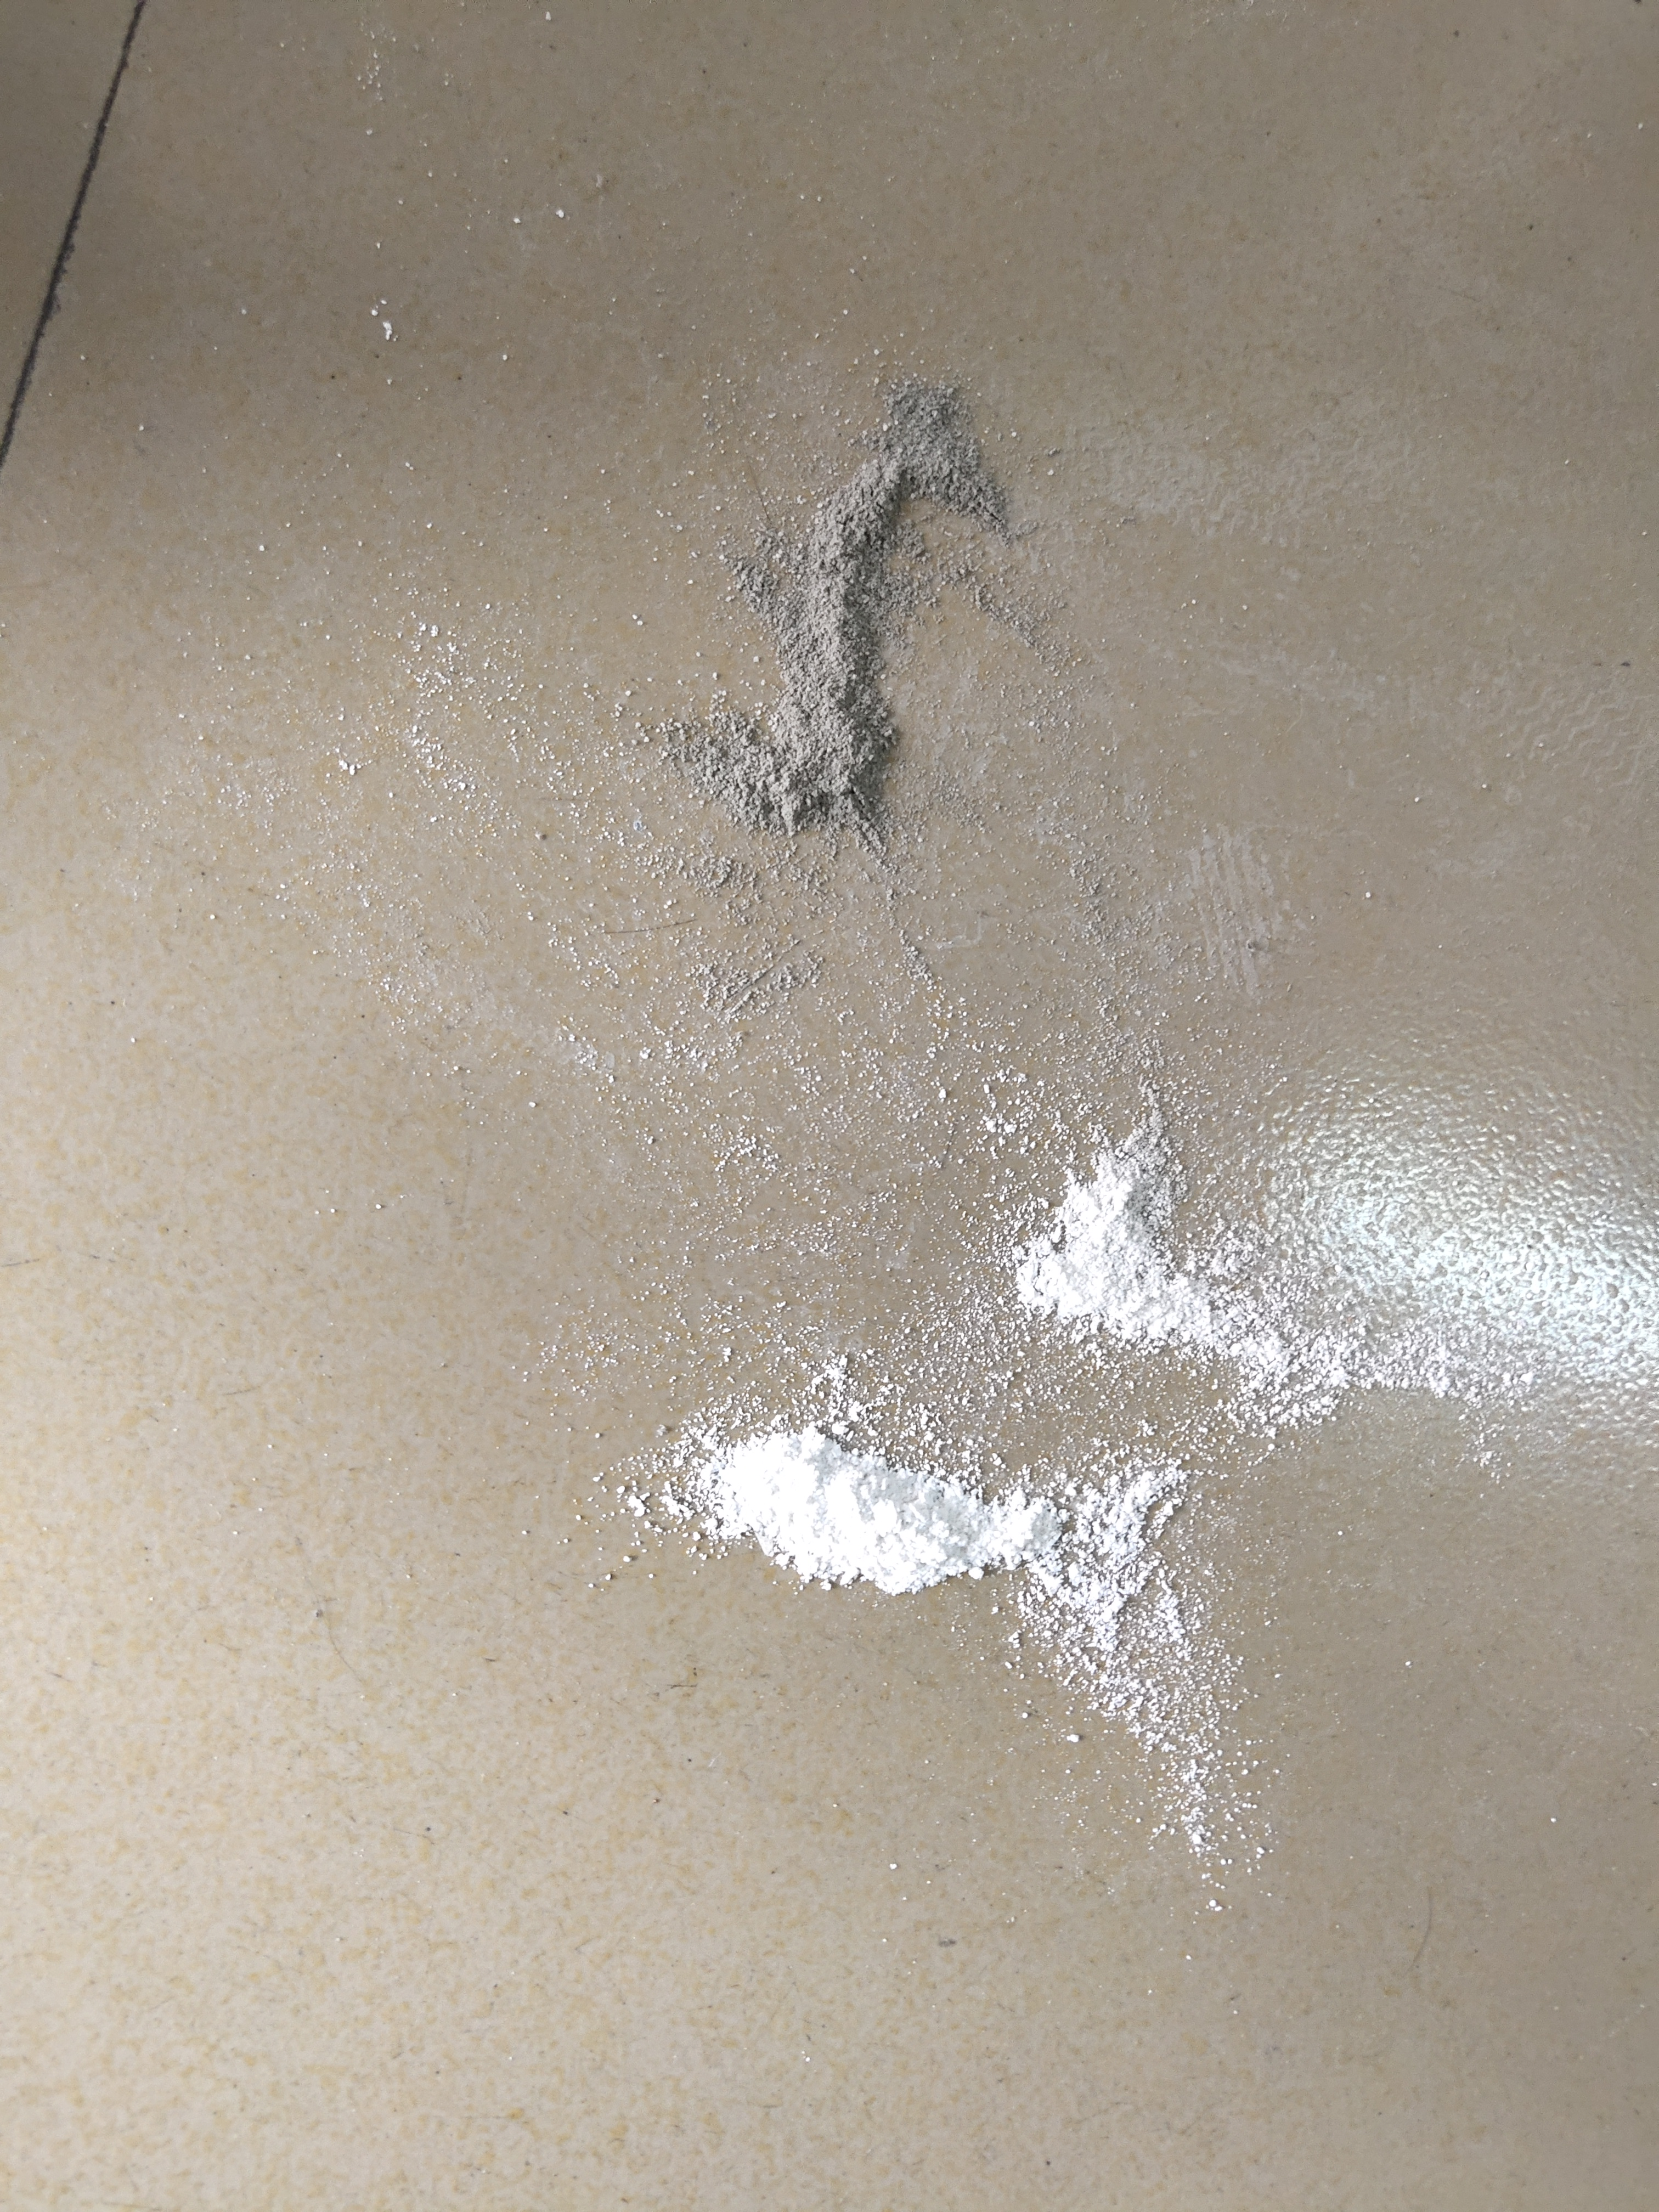ash pile: (605, 1352, 1267, 1890), (1004, 1101, 1534, 1428), (647, 369, 1009, 843)
reflection: (1269, 1109, 1659, 1421)
